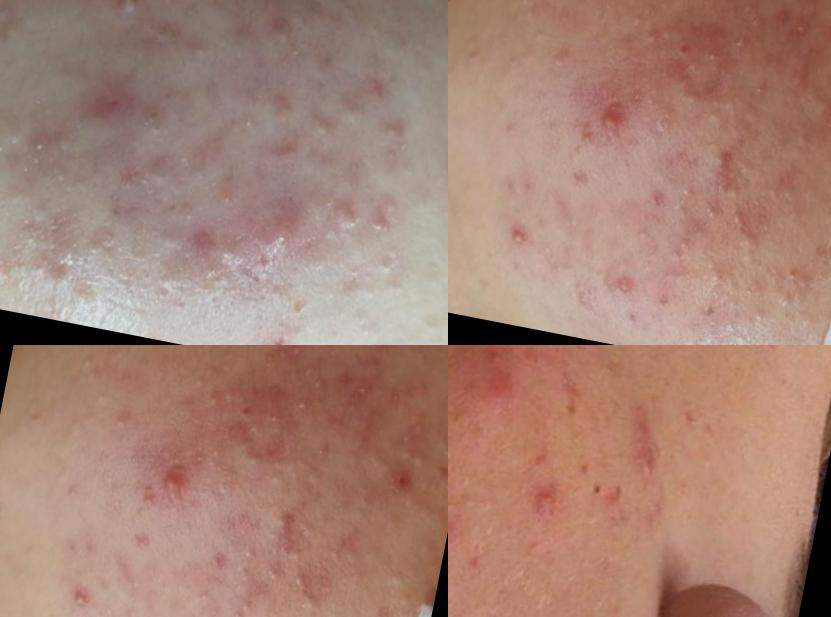blackhead: (143, 9, 181, 52)
papular: (245, 178, 315, 270), (449, 352, 529, 422), (517, 462, 575, 536), (366, 120, 424, 184), (83, 75, 138, 132), (584, 94, 644, 145), (146, 456, 206, 507), (296, 105, 344, 145), (692, 140, 744, 176), (254, 502, 306, 538), (354, 77, 399, 116), (449, 493, 464, 568), (437, 153, 449, 195)
purulent: (498, 208, 538, 253), (60, 570, 100, 615), (94, 1, 142, 30)
sebo-crystan-conglo: (323, 196, 359, 244)
whitehead: (745, 258, 820, 333), (255, 280, 327, 339), (361, 188, 404, 247), (80, 219, 126, 266), (693, 252, 736, 298), (411, 294, 449, 346), (374, 239, 413, 286), (227, 102, 272, 142), (1, 1, 37, 45), (155, 218, 192, 260), (69, 347, 110, 384), (402, 427, 433, 474), (724, 202, 759, 239), (286, 564, 321, 601), (606, 272, 643, 305), (671, 178, 699, 218), (233, 540, 261, 580), (570, 281, 600, 315), (726, 30, 759, 60), (743, 305, 773, 338), (288, 392, 321, 422), (703, 93, 744, 115), (265, 455, 306, 477), (789, 118, 819, 148), (351, 480, 381, 510), (293, 357, 324, 386), (746, 8, 771, 43), (308, 370, 333, 405), (507, 1, 548, 21), (388, 561, 415, 591), (671, 235, 697, 265), (551, 46, 577, 76), (113, 408, 139, 438), (675, 86, 706, 110), (237, 448, 268, 472), (730, 1, 761, 24), (702, 198, 726, 224), (264, 560, 288, 586), (791, 15, 816, 39), (353, 377, 378, 401), (748, 78, 772, 102), (310, 440, 334, 464), (214, 360, 241, 381), (233, 597, 259, 617), (651, 1, 678, 19), (633, 224, 653, 248), (195, 586, 215, 610), (631, 8, 648, 33), (193, 370, 210, 395), (684, 60, 704, 81), (246, 422, 266, 443), (1, 256, 16, 283), (801, 177, 815, 202), (363, 539, 377, 564), (643, 29, 660, 48), (205, 391, 222, 410), (825, 199, 831, 229)
